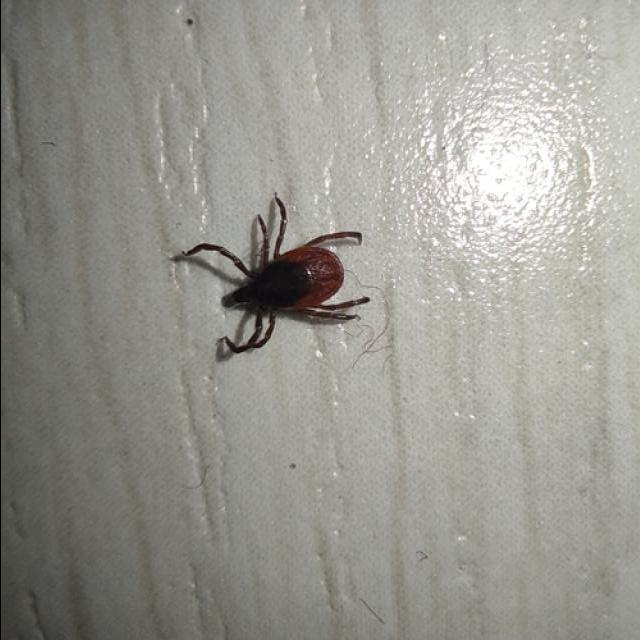Ixodes Ricinus-F: (172, 195, 367, 362)
